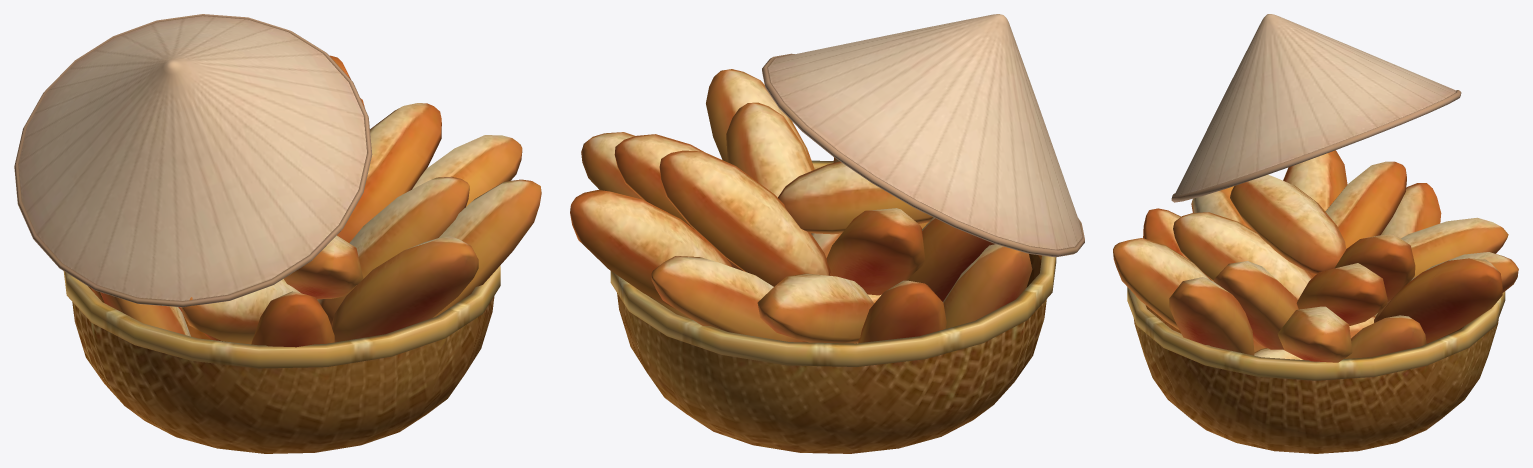
File: vn_bread_basket.glb
3 views of the same model, side by side, from view 1: azimuth 30°, elevation 25°; view 2: azimuth 150°, elevation 25°; view 3: azimuth 270°, elevation 25° (orthographic). The views are drawn at different scales.
Parts seen in each view (by area): view 1: polySurface8_lambert2_0; view 2: polySurface8_lambert2_0; view 3: polySurface8_lambert2_0.
Boxes of the visible parts, x1,y1,x2,y2 form: polySurface8_lambert2_0: (14,14,541,453); polySurface8_lambert2_0: (570,14,1084,453); polySurface8_lambert2_0: (1113,14,1518,453).
Bounding box in the file's own units: 0.521 × 0.42 × 0.4472.
Materials: 1 (1 with a texture image).
